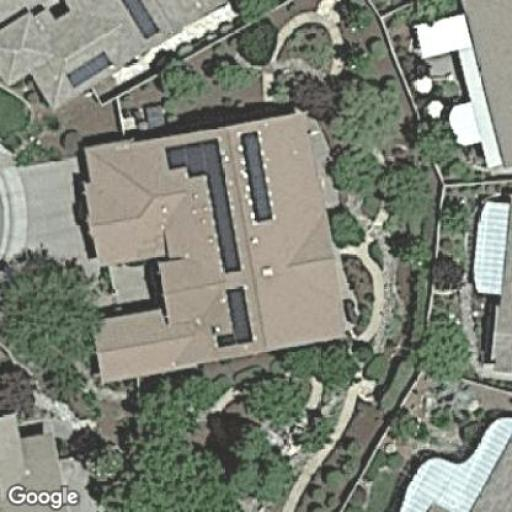solar-panel: (162, 136, 242, 274), (237, 128, 275, 224), (212, 284, 257, 349), (62, 48, 116, 91), (119, 0, 164, 41)
